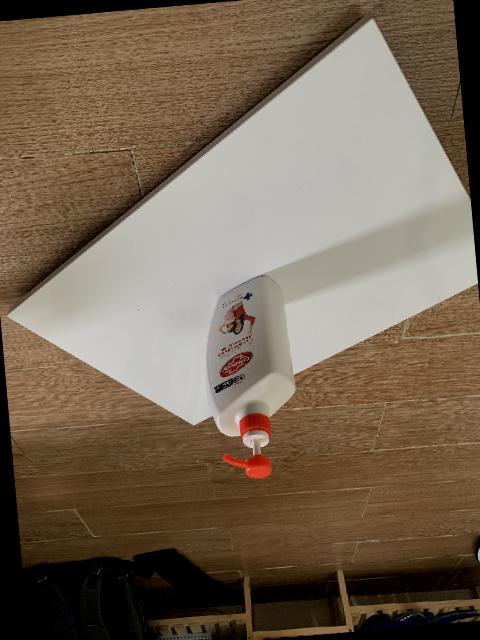life-buoy: (204, 275, 294, 478)
